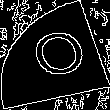O_S: (21, 24, 89, 86)
